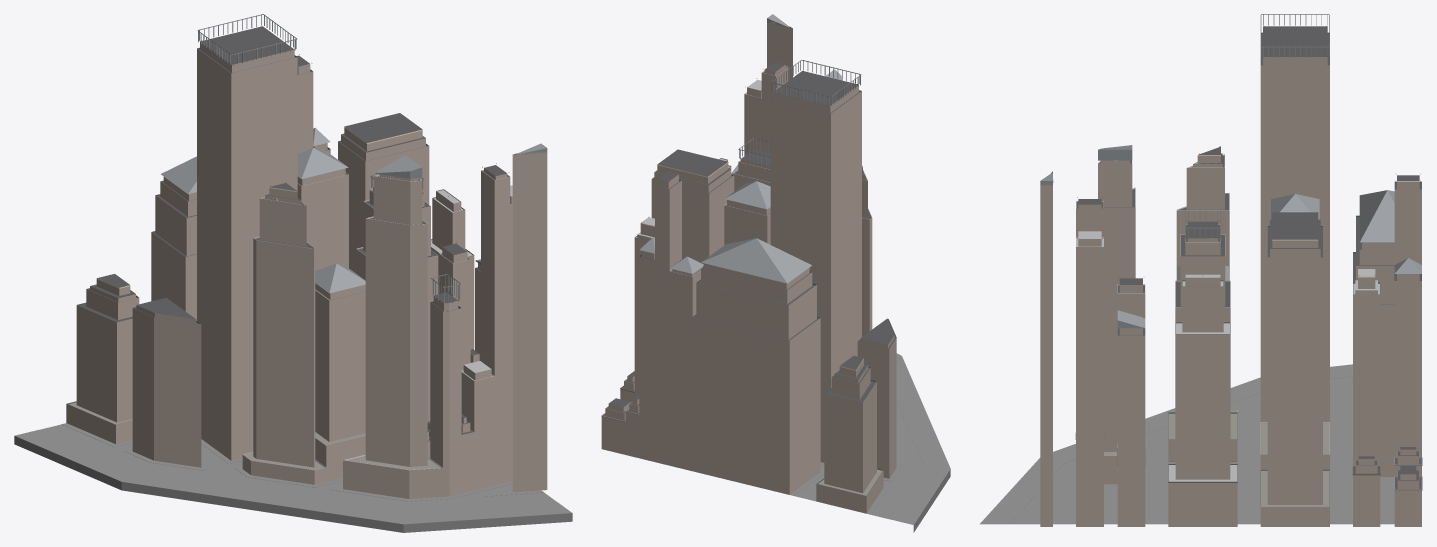
3 renders of one model, left to right at view 1: azimuth 30°, elevation 25°; view 2: azimuth 150°, elevation 25°; view 3: azimuth 270°, elevation 25°, orthographic. The views are drawn at different scales.
Parts seen in each view (by area): view 1: t07_facade, t07_ground, t07_roof, t07_detail; view 2: t07_facade, t07_roof, t07_ground, t07_detail; view 3: t07_facade, t07_ground, t07_roof, t07_detail.
Part boxes in pixels (left/top/right/bottom): t07_facade: left=66, top=41, right=547, bottom=498; t07_ground: left=14, top=423, right=572, bottom=532; t07_roof: left=69, top=14, right=547, bottom=469; t07_detail: left=67, top=47, right=517, bottom=470; t07_facade: left=601, top=22, right=896, bottom=513; t07_roof: left=603, top=14, right=895, bottom=495; t07_ground: left=790, top=353, right=950, bottom=532; t07_detail: left=601, top=21, right=896, bottom=495; t07_facade: left=1040, top=57, right=1421, bottom=526; t07_ground: left=980, top=364, right=1394, bottom=524; t07_roof: left=1040, top=14, right=1421, bottom=506; t07_detail: left=1051, top=32, right=1422, bottom=506.
Size of the model in its own units: 349 by 401 by 384.
